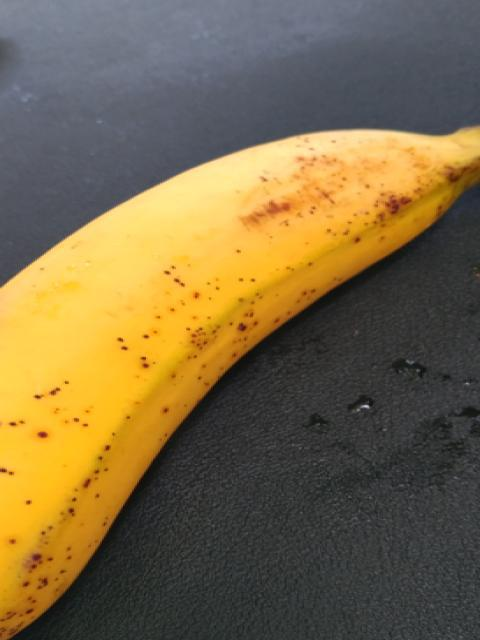ripe: (0, 125, 447, 639)
